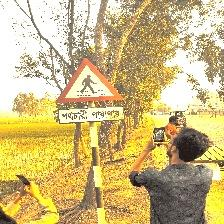Pedestrian-crossing: (55, 58, 125, 125)
